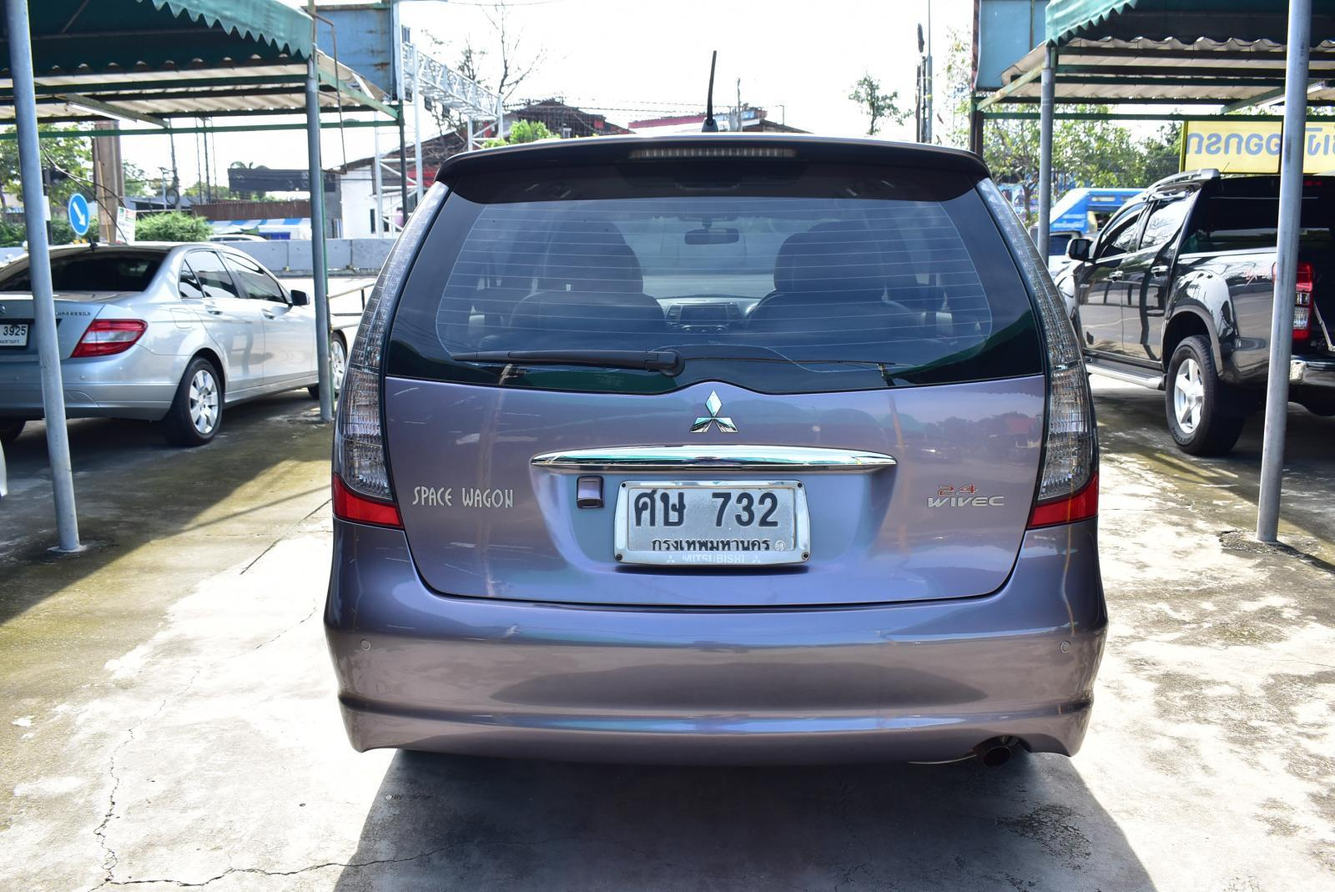license-plate: (606, 478, 820, 577)
